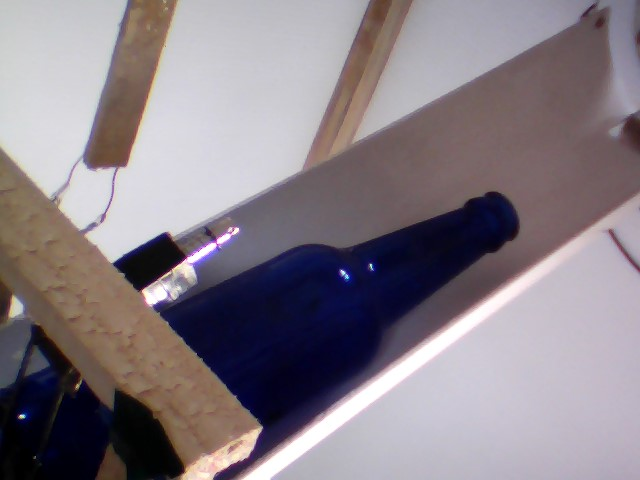vidrio: (172, 186, 532, 434)
